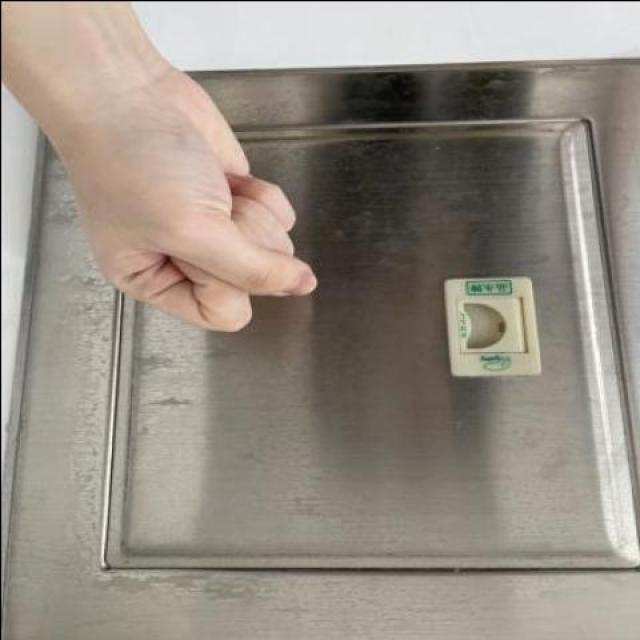fist: (48, 74, 320, 354)
